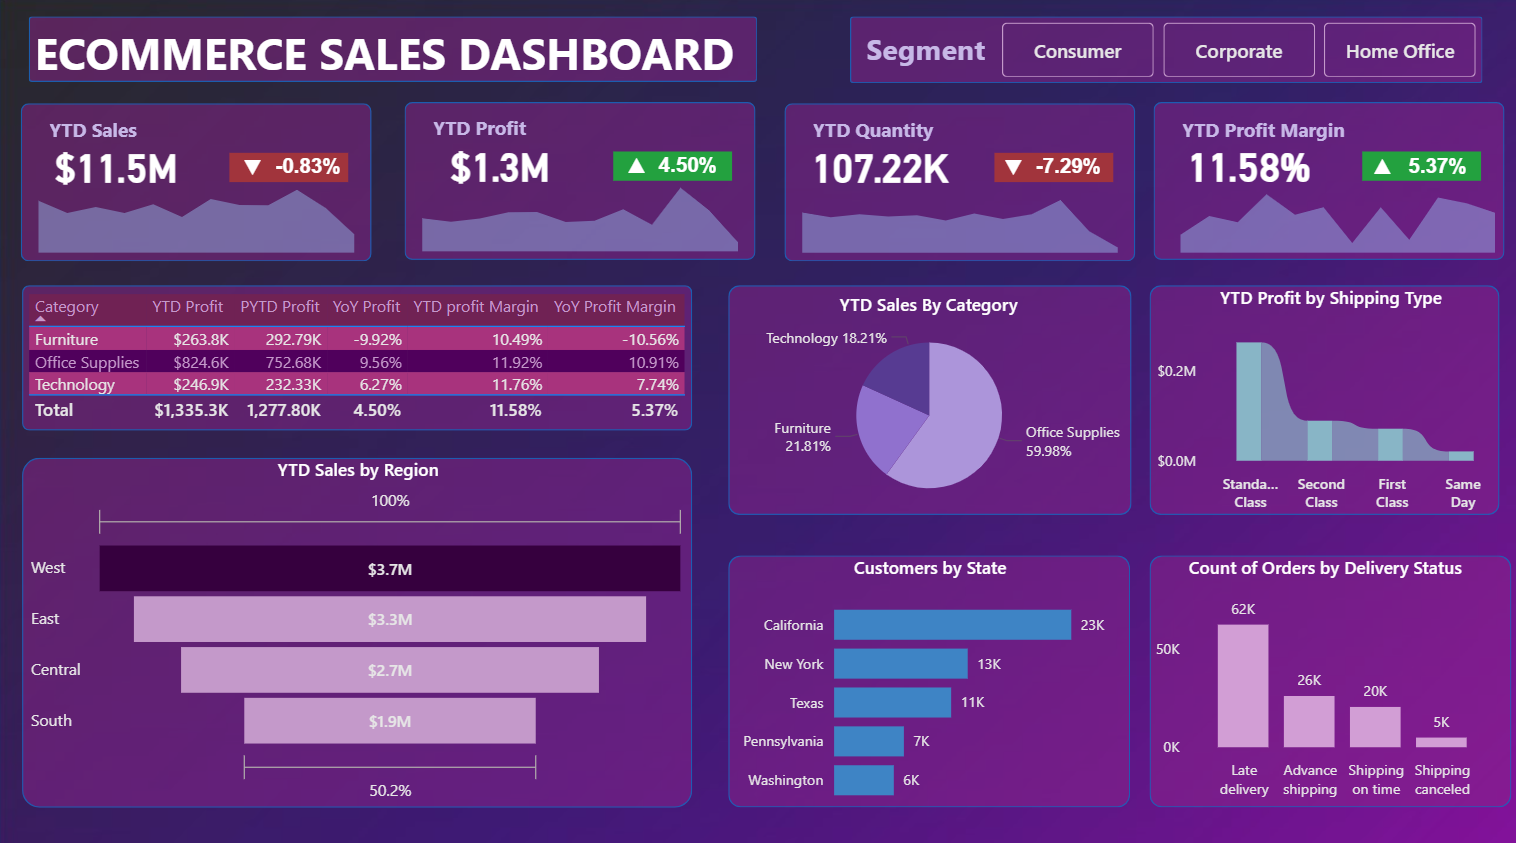

The page's visual inventory and layout, read from the dashboard file:
{"tool":"powerbi","page":{"name":"Page 1","canvas":[1280,720],"ordinal":0},"visuals":[{"type":"shape","box":[26,17.9,614.2,55.2],"z":0},{"type":"textbox","box":[26,17.9,614.2,66.6],"z":1000},{"type":"shape","box":[19.2,91.2,295.7,133.2],"z":2000},{"type":"card","fields":{"Values":["ecommerce_data.YTD Sales"]},"box":[26.1,120.6,146.7,46.3],"z":3000},{"type":"areaChart","fields":{"Category":["Calendar.Month"],"Y":["Sum(ecommerce_data.sales_per_order)"]},"box":[19.2,140.9,295.7,81.2],"z":4000},{"type":"shape","box":[195.4,132.9,100.3,24.5],"z":5000},{"type":"card","fields":{"Values":["ecommerce_data.YoY Sales"]},"box":[226.3,127.3,68.8,34.9],"z":6000},{"type":"card","fields":{"Values":["ecommerce_data.Sales icon"]},"box":[198.1,129.6,31.6,33.8],"z":7000},{"type":"textbox","box":[38.7,97,95.9,35.7],"z":8000},{"type":"shape","box":[342.6,90.3,295.7,133.2],"z":9000},{"type":"card","fields":{"Values":["ecommerce_data.YTD Profit"]},"box":[349.5,119.7,146.7,46.3],"z":10000},{"type":"areaChart","fields":{"Category":["Calendar.Month"],"Y":["Sum(ecommerce_data.profit_per_order)"]},"box":[343,146.4,295.6,74.4],"z":11000},{"type":"shape","box":[518.9,132,100.3,24.5],"z":12000},{"type":"card","fields":{"Values":["ecommerce_data.YoY Profit"]},"box":[546.6,126.2,68.8,36.1],"z":13000},{"type":"card","fields":{"Values":["ecommerce_data.Profit icon"]},"box":[521.8,128.5,31.6,33.8],"z":14000},{"type":"textbox","box":[362.1,96.1,95.9,35.7],"z":15000},{"type":"shape","box":[663.3,91.5,295.7,133.2],"z":16000},{"type":"card","fields":{"Values":["ecommerce_data.YTD Quantity"]},"box":[670.3,120.9,146.7,46.3],"z":17000},{"type":"areaChart","fields":{"Category":["Calendar.Month"],"Y":["Sum(ecommerce_data.order_quantity)"]},"box":[663,156.4,295.6,65.6],"z":18000},{"type":"shape","box":[839.6,133.2,100.3,24.5],"z":19000},{"type":"card","fields":{"Values":["ecommerce_data.YoY Quantity"]},"box":[868,127.3,67.7,34.9],"z":20000},{"type":"card","fields":{"Values":["ecommerce_data.QTY Icon"]},"box":[840.4,129.8,30.9,34.1],"z":21000},{"type":"textbox","box":[682.2,96.7,134.9,36.2],"z":22000},{"type":"shape","box":[974.3,90.3,295.7,133.2],"z":23000},{"type":"card","fields":{"Values":["ecommerce_data.YTD profit Margin"]},"box":[981.2,119.7,146.7,46.3],"z":24000},{"type":"areaChart","fields":{"Category":["Calendar.Month"],"Y":["ecommerce_data.Profit margin"]},"box":[981.9,145.3,294.4,76.7],"z":25000},{"type":"shape","box":[1150.6,132,100.3,24.5],"z":26000},{"type":"card","fields":{"Values":["ecommerce_data.YoY Profit Margin"]},"box":[1179.2,126.2,67.7,37.2],"z":27000},{"type":"card","fields":{"Values":["ecommerce_data.Profit Margin icon"]},"box":[1151.4,128.6,30.9,34.1],"z":28000},{"type":"textbox","box":[993,96.4,188.3,35],"z":29000},{"type":"shape","box":[20,245,565,122.5],"z":30000},{"type":"shape","box":[970.8,244.7,295,193.8],"z":31000},{"type":"shape","box":[615.8,244.7,340,193.8],"z":32000},{"type":"shape","box":[615.8,472.2,338.8,212.5],"z":33000},{"type":"shape","box":[970.8,472.2,305,212.5],"z":34000},{"type":"clusteredBarChart","title":"Customers by State","fields":{"Category":["ecommerce_data.customer_state"],"Y":["CountNonNull(ecommerce_data.customer_id)"]},"box":[616,472.2,340.5,221],"z":35000},{"type":"pieChart","title":"YTD Sales By Category","fields":{"Category":["ecommerce_data.category_name"],"Y":["ecommerce_data.YTD Sales"]},"box":[614.8,250,340.5,188.3],"z":36000},{"type":"shape","box":[20,390,565,295],"z":37000},{"type":"funnel","title":"YTD Sales by Region","fields":{"Category":["ecommerce_data.customer_region"],"Y":["ecommerce_data.YTD Sales"]},"box":[22.5,390,562.5,295],"z":38000},{"type":"ribbonChart","title":"YTD Profit by Shipping Type","fields":{"Y":["ecommerce_data.YTD Profit"],"Category":["ecommerce_data.shipping_type"]},"box":[972,244.7,303.8,198.8],"z":39000},{"type":"tableEx","fields":{"Values":["ecommerce_data.category_name","ecommerce_data.YTD Profit","ecommerce_data.PYTD Profit","ecommerce_data.YoY Profit","ecommerce_data.YTD profit Margin","ecommerce_data.YoY Profit Margin"]},"box":[20,247.5,565,117.5],"z":40000},{"type":"columnChart","title":"Count of Orders by Delivery Status","fields":{"Category":["ecommerce_data.delivery_status"],"Y":["CountNonNull(ecommerce_data.order_id)"]},"box":[970.8,472.2,296.2,212.5],"z":41000},{"type":"shape","box":[718.3,18,533.4,56.4],"z":42000},{"type":"advancedSlicerVisual","fields":{"Values":["ecommerce_data.customer_segment"]},"box":[841.2,18,410.5,56.4],"z":43000},{"type":"textbox","box":[727.3,23.7,112.8,42.9],"z":44000}]}

Visuals, with their boxes in screenshot pixels (x1, y1, x2, y2), scaled from the page's 1280x720 canvas onto the 1516x843 screenshot:
shape: x1=31, y1=21, x2=758, y2=86
textbox: x1=31, y1=21, x2=758, y2=99
shape: x1=23, y1=107, x2=373, y2=263
card - ecommerce_data.YTD Sales: x1=31, y1=141, x2=205, y2=195
areaChart - Calendar.Month x Sum(ecommerce_data.sales_per_order): x1=23, y1=165, x2=373, y2=260
shape: x1=231, y1=156, x2=350, y2=184
card - ecommerce_data.YoY Sales: x1=268, y1=149, x2=350, y2=190
card - ecommerce_data.Sales icon: x1=235, y1=152, x2=272, y2=191
textbox: x1=46, y1=114, x2=159, y2=155
shape: x1=406, y1=106, x2=756, y2=262
card - ecommerce_data.YTD Profit: x1=414, y1=140, x2=588, y2=194
areaChart - Calendar.Month x Sum(ecommerce_data.profit_per_order): x1=406, y1=171, x2=756, y2=259
shape: x1=615, y1=155, x2=733, y2=183
card - ecommerce_data.YoY Profit: x1=647, y1=148, x2=729, y2=190
card - ecommerce_data.Profit icon: x1=618, y1=150, x2=655, y2=190
textbox: x1=429, y1=113, x2=542, y2=154
shape: x1=786, y1=107, x2=1136, y2=263
card - ecommerce_data.YTD Quantity: x1=794, y1=142, x2=968, y2=196
areaChart - Calendar.Month x Sum(ecommerce_data.order_quantity): x1=785, y1=183, x2=1135, y2=260
shape: x1=994, y1=156, x2=1113, y2=185
card - ecommerce_data.YoY Quantity: x1=1028, y1=149, x2=1108, y2=190
card - ecommerce_data.QTY Icon: x1=995, y1=152, x2=1032, y2=192
textbox: x1=808, y1=113, x2=968, y2=156
shape: x1=1154, y1=106, x2=1504, y2=262
card - ecommerce_data.YTD profit Margin: x1=1162, y1=140, x2=1336, y2=194
areaChart - Calendar.Month x ecommerce_data.Profit margin: x1=1163, y1=170, x2=1512, y2=260
shape: x1=1363, y1=155, x2=1482, y2=183
card - ecommerce_data.YoY Profit Margin: x1=1397, y1=148, x2=1477, y2=191
card - ecommerce_data.Profit Margin icon: x1=1364, y1=151, x2=1400, y2=190
textbox: x1=1176, y1=113, x2=1399, y2=154
shape: x1=24, y1=287, x2=693, y2=430
shape: x1=1150, y1=287, x2=1499, y2=513
shape: x1=729, y1=287, x2=1132, y2=513
shape: x1=729, y1=553, x2=1131, y2=802
shape: x1=1150, y1=553, x2=1511, y2=802
"Customers by State" clusteredBarChart: x1=730, y1=553, x2=1133, y2=812
"YTD Sales By Category" pieChart: x1=728, y1=293, x2=1131, y2=513
shape: x1=24, y1=457, x2=693, y2=802
"YTD Sales by Region" funnel: x1=27, y1=457, x2=693, y2=802
"YTD Profit by Shipping Type" ribbonChart: x1=1151, y1=287, x2=1511, y2=519
tableEx - ecommerce_data.category_name x ecommerce_data.YTD Profit: x1=24, y1=290, x2=693, y2=427
"Count of Orders by Delivery Status" columnChart: x1=1150, y1=553, x2=1501, y2=802
shape: x1=851, y1=21, x2=1482, y2=87
advancedSlicerVisual - ecommerce_data.customer_segment: x1=996, y1=21, x2=1482, y2=87
textbox: x1=861, y1=28, x2=995, y2=78
